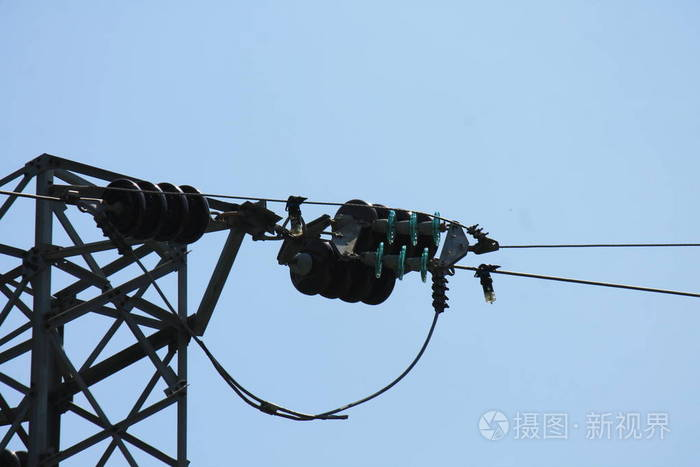insulator: (95, 177, 209, 243), (282, 243, 396, 308), (330, 201, 442, 259), (369, 242, 431, 286), (379, 207, 445, 247)
